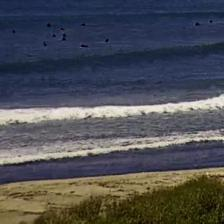surfer: (61, 34, 68, 42), (80, 43, 88, 48), (46, 22, 52, 28), (43, 41, 48, 48), (51, 33, 57, 38), (80, 22, 86, 27), (104, 38, 110, 43), (194, 22, 200, 27), (12, 29, 17, 34), (60, 27, 65, 31), (209, 20, 213, 24)
